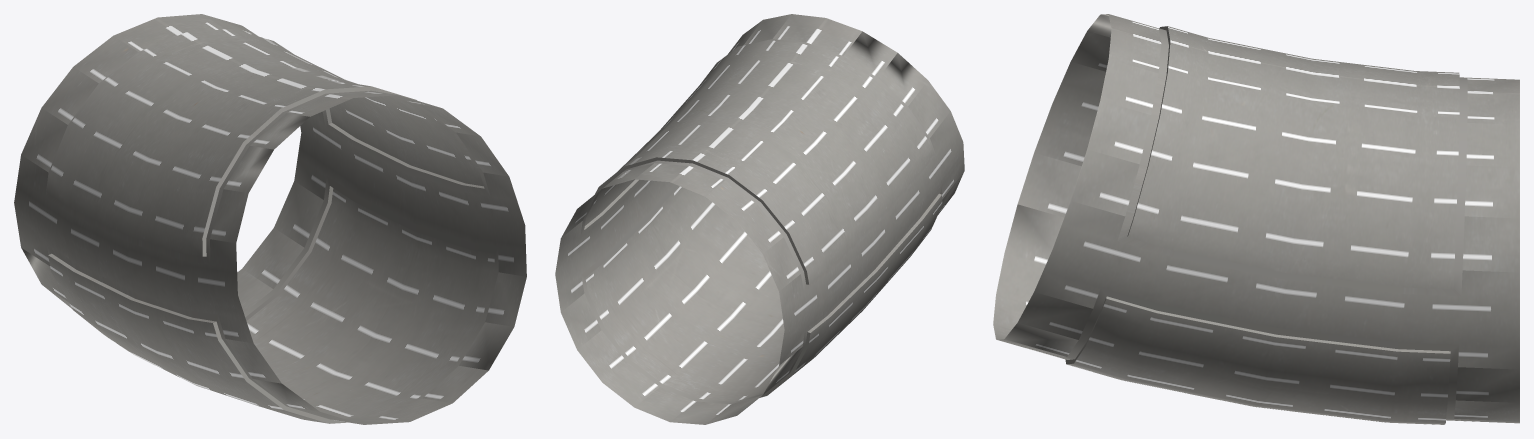
Rendered from bend_window.fbx.
3 renders of one model, left to right at view 1: azimuth 30°, elevation 25°; view 2: azimuth 150°, elevation 25°; view 3: azimuth 270°, elevation 25°, orthographic. The views are drawn at different scales.
Parts seen in each view (by area): view 1: polySurface2, polySurface4; view 2: polySurface2, polySurface4; view 3: polySurface2, polySurface4.
Boxes of the visible parts, left/top/right/bottom form: polySurface2: left=46, top=28, right=494, bottom=423; polySurface4: left=14, top=14, right=526, bottom=424; polySurface2: left=585, top=40, right=942, bottom=401; polySurface4: left=555, top=14, right=964, bottom=424; polySurface2: left=1066, top=26, right=1459, bottom=424; polySurface4: left=993, top=14, right=1519, bottom=423.
Size of the model in its own units: 76 by 92.09 by 116.
